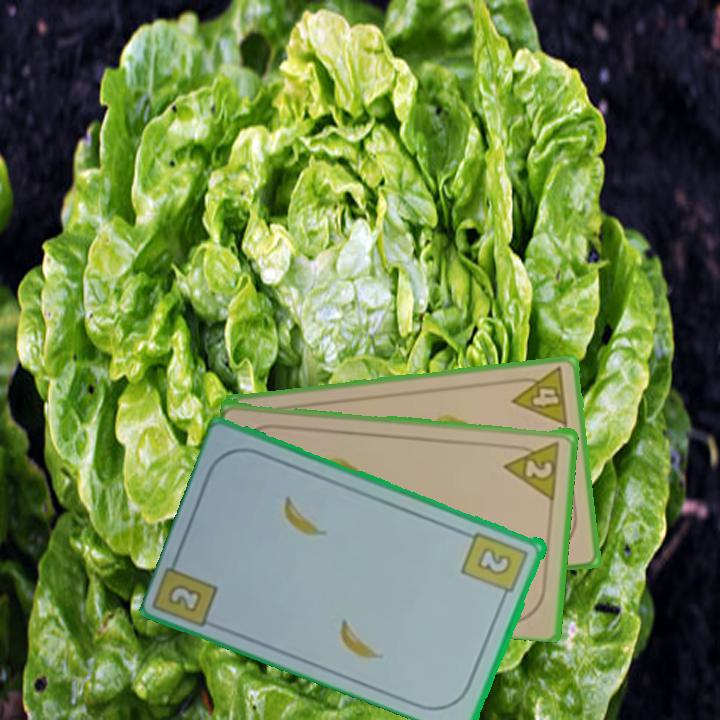2b: (459, 528, 532, 603), (165, 580, 206, 616)
2p: (501, 437, 563, 500)
4p: (507, 364, 571, 429)
